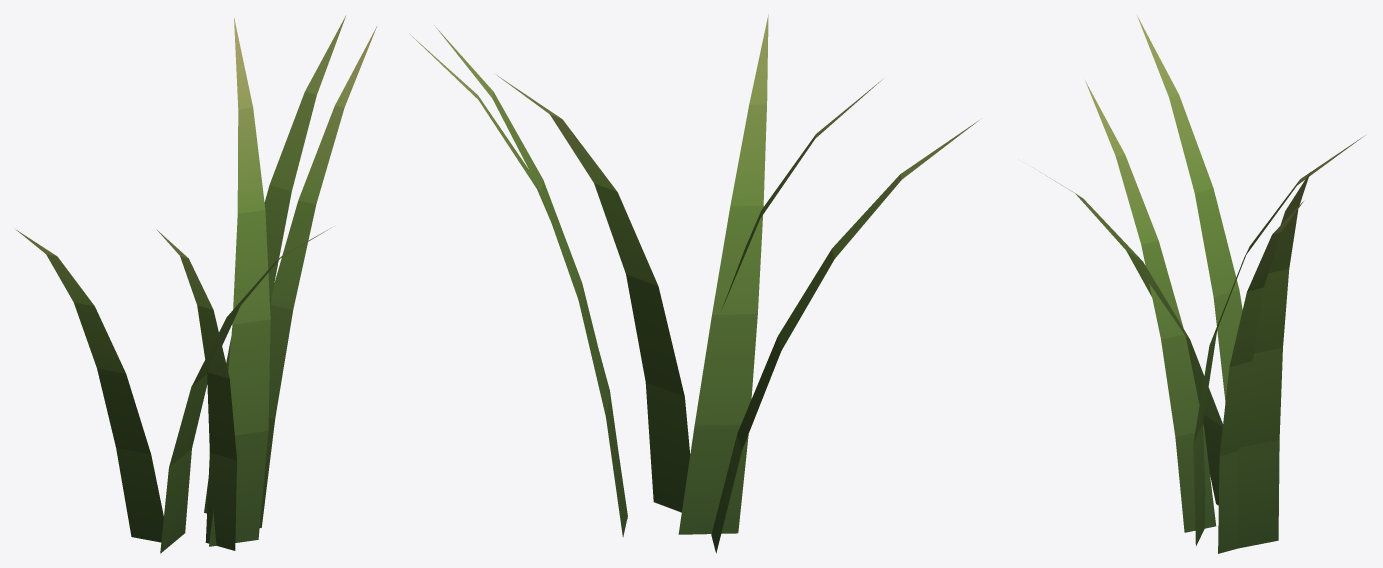
Rendered from grass_clump_c.glb.
The picture shows the model from 3 angles, left to right: view 1: azimuth 30°, elevation 25°; view 2: azimuth 150°, elevation 25°; view 3: azimuth 270°, elevation 25°; orthographic projection. The views are drawn at different scales.
Parts seen in each view (by area): view 1: grass_clump_c; view 2: grass_clump_c; view 3: grass_clump_c.
Part boxes in pixels (<box>): grass_clump_c: <box>15,16,376,553</box>; grass_clump_c: <box>410,14,978,553</box>; grass_clump_c: <box>1034,15,1365,553</box>.
Bounding box in the file's own units: 0.5235 × 0.5 × 0.3622.
